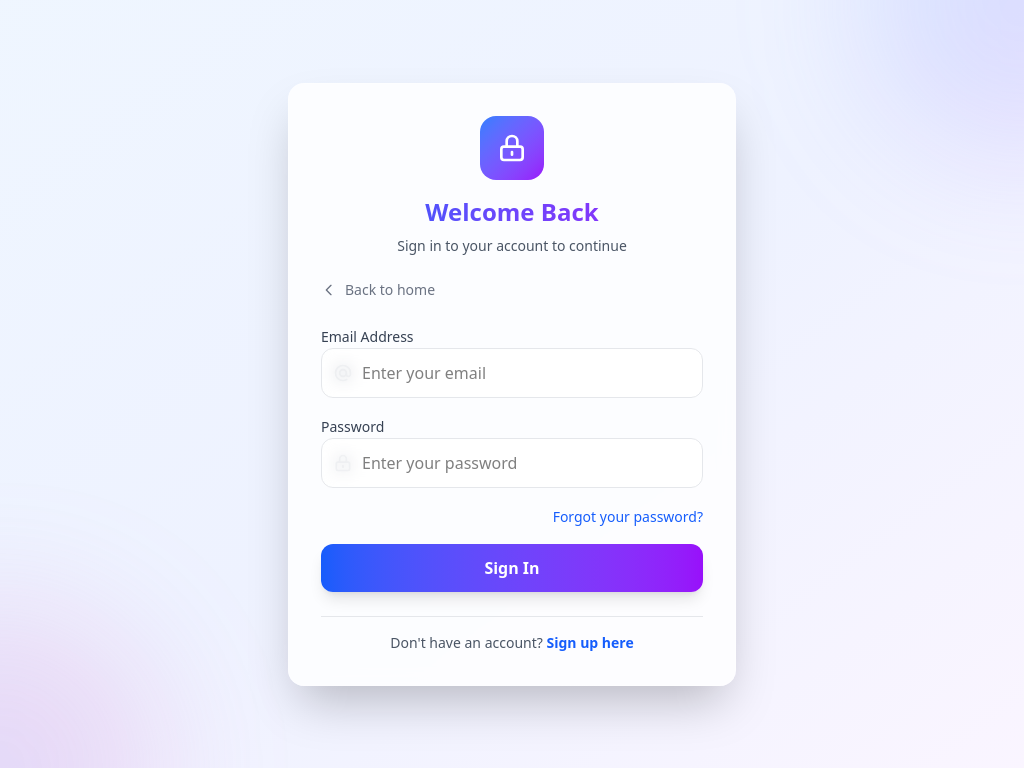
Scenario: Login › should show error message on failed login
Try to login with non-existent user
Type "nonexistent@example.com" into the field labelled "Email Address" at (512, 372), box x1=321 y1=348 x2=703 y2=398
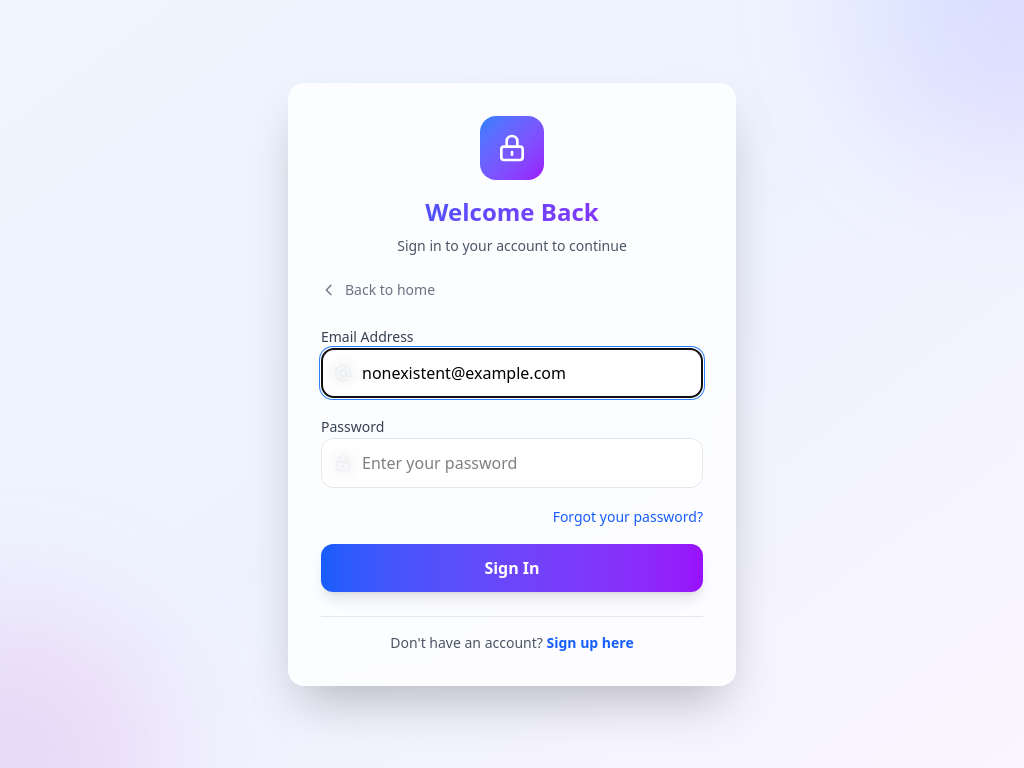
Type "wrongpassword" into the password field labelled "Password" at (512, 462), box x1=321 y1=438 x2=703 y2=488
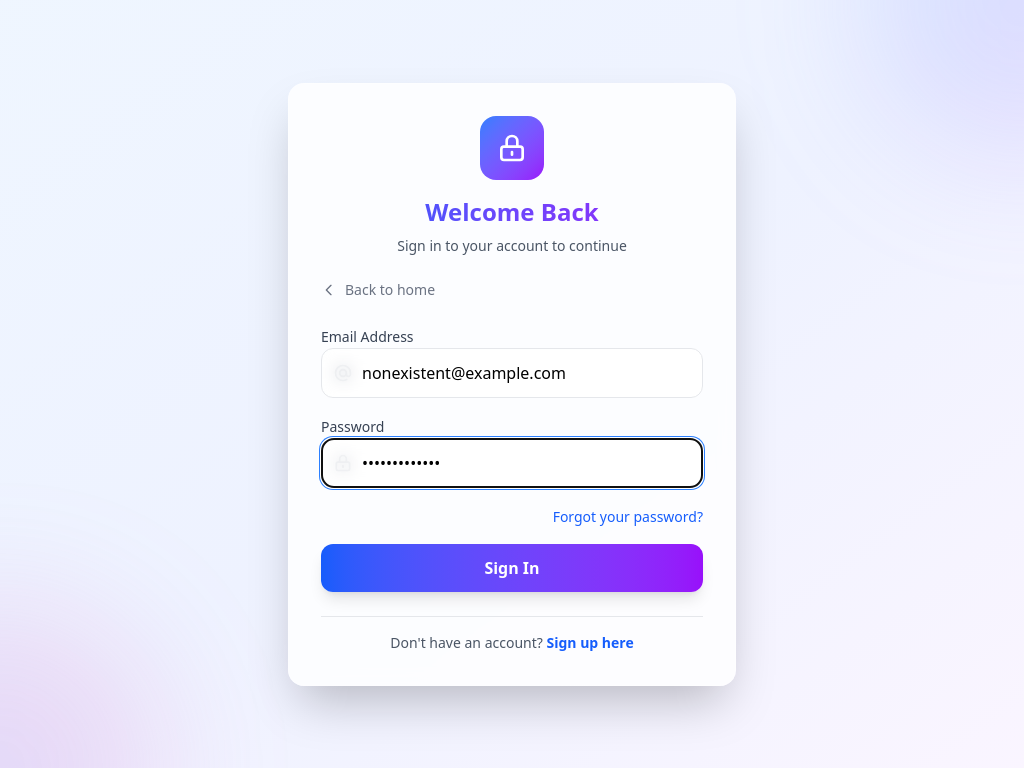
Click the button "Sign In" at (512, 568), box x1=321 y1=544 x2=703 y2=592
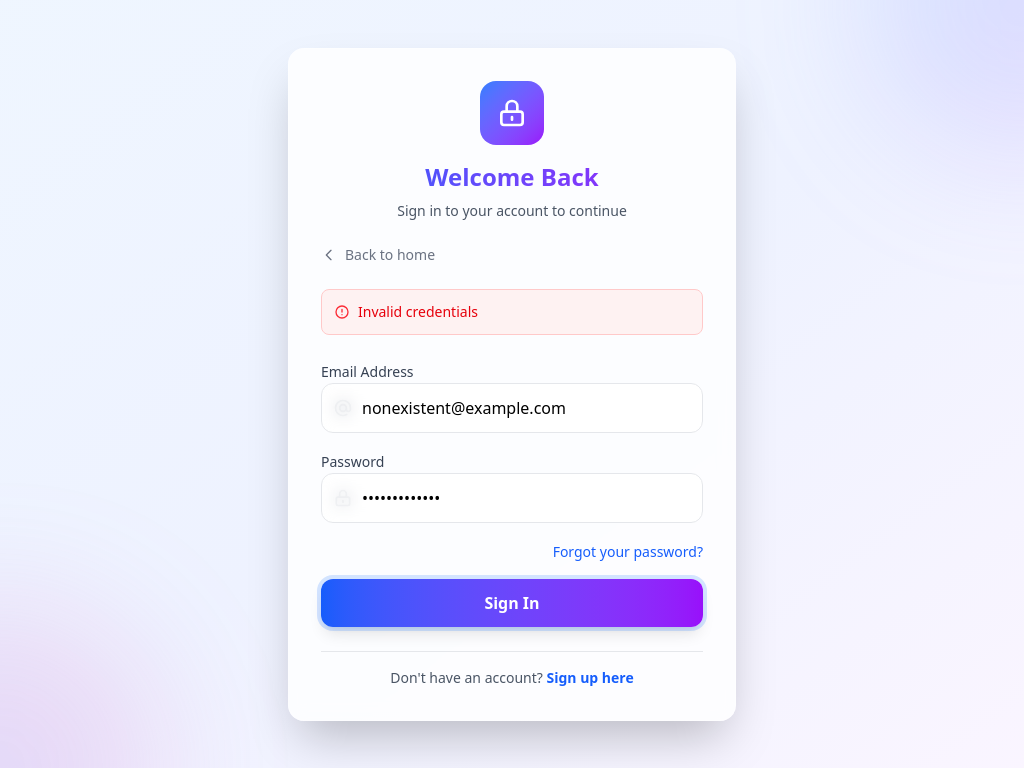
Check: the text "Invalid credentials" is shown, box x1=358 y1=302 x2=478 y2=322
